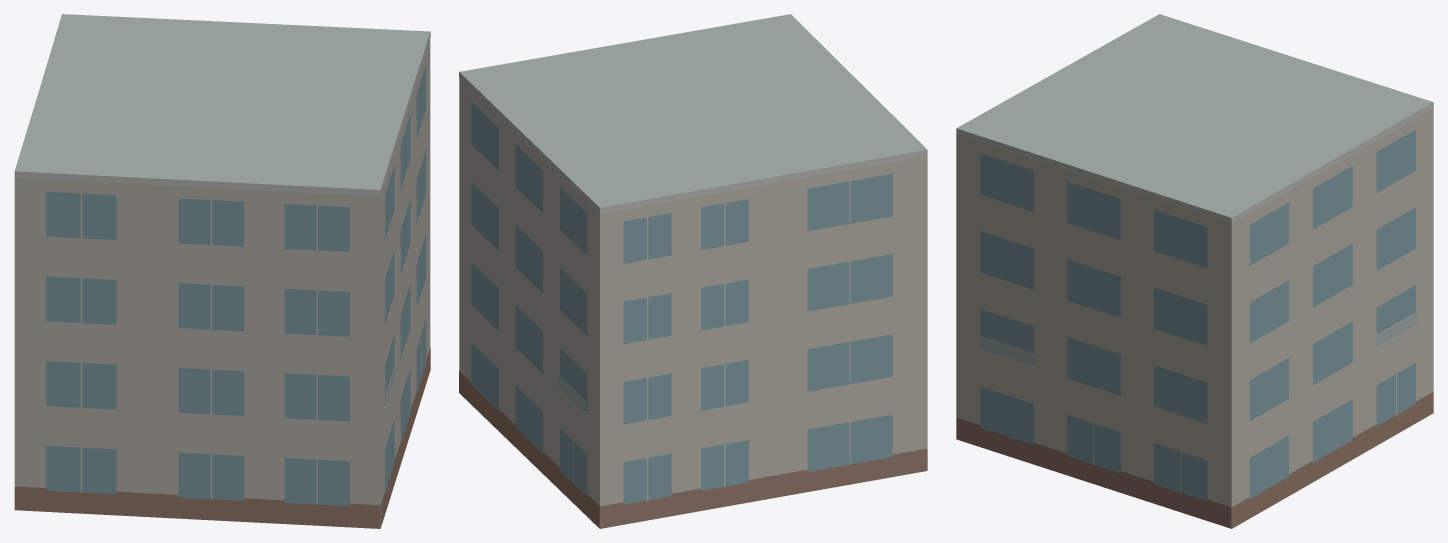
The model's file is survey-upis-32961893.glb.
The picture shows the model from 3 angles, left to right: view 1: azimuth 30°, elevation 25°; view 2: azimuth 150°, elevation 25°; view 3: azimuth 270°, elevation 25°; orthographic projection. The views are drawn at different scales.
Visible parts, largest first — view 1: survey-upis-32961893.tmp; view 2: survey-upis-32961893.tmp; view 3: survey-upis-32961893.tmp.
Part boxes in pixels (x1,y1,x2,y2): survey-upis-32961893.tmp: (14,14,430,528); survey-upis-32961893.tmp: (459,14,927,528); survey-upis-32961893.tmp: (956,14,1433,528).
Bounding box in the file's own units: 18 × 12.8 × 17.81.
